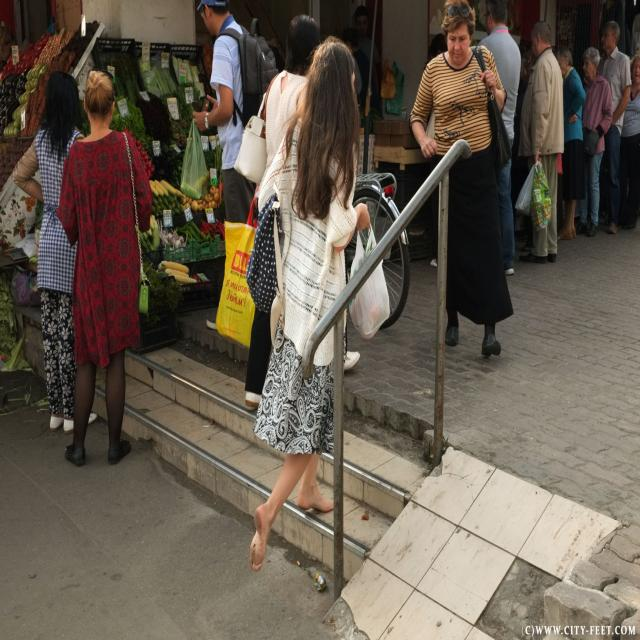Barefoots: (249, 503, 266, 571), (298, 489, 335, 512)
